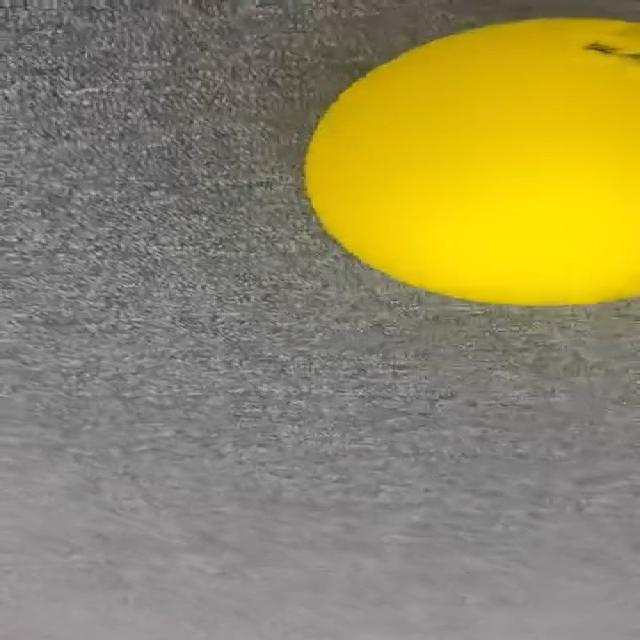Fuels: (302, 17, 640, 307)
